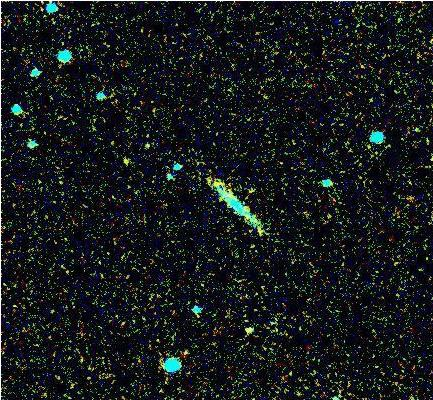star: (111, 149, 141, 179)
